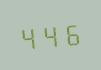four: (40, 20, 60, 49), (18, 22, 38, 50)
six: (61, 19, 81, 47)
